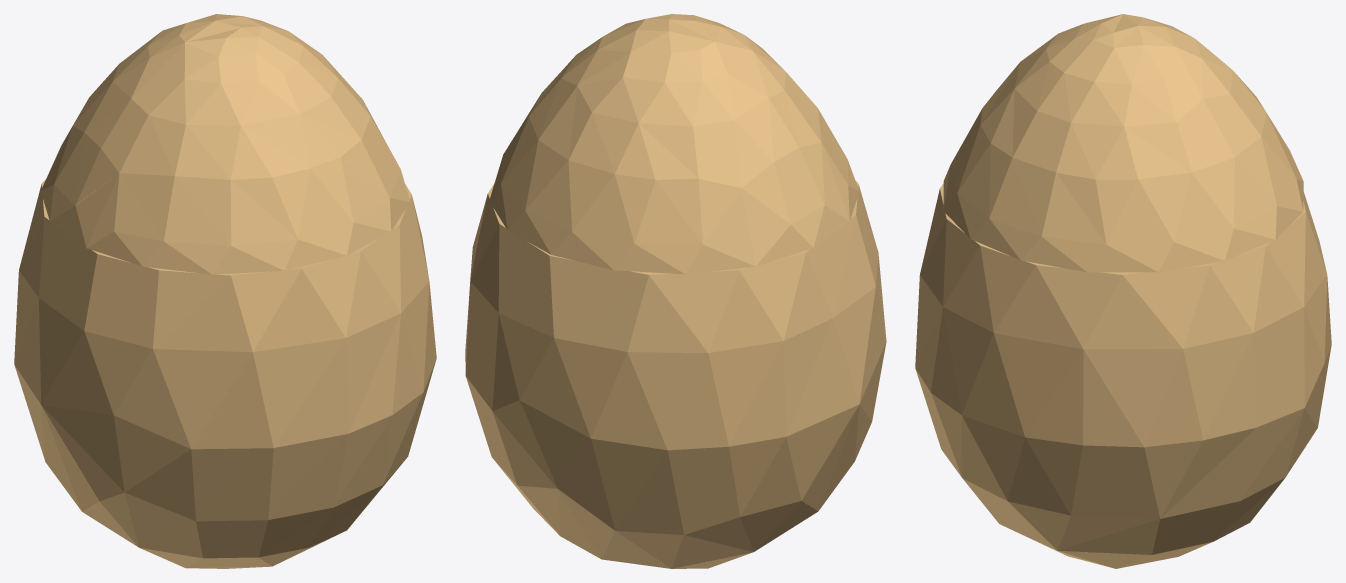
File: spliteggcollisions.dae
3 renders of one model, left to right at view 1: azimuth 30°, elevation 25°; view 2: azimuth 150°, elevation 25°; view 3: azimuth 270°, elevation 25°, orthographic.
Visible parts, largest first — view 1: EggBottom, EggTop; view 2: EggBottom, EggTop; view 3: EggBottom, EggTop.
Boxes of the visible parts, x1,y1,x2,y2 form: EggBottom: (14, 179, 436, 568); EggTop: (40, 14, 409, 274); EggBottom: (465, 180, 886, 568); EggTop: (489, 14, 859, 274); EggBottom: (915, 183, 1331, 568); EggTop: (943, 14, 1303, 272).
Bounding box in the file's own units: 3.88 × 3.86 × 5.33.
